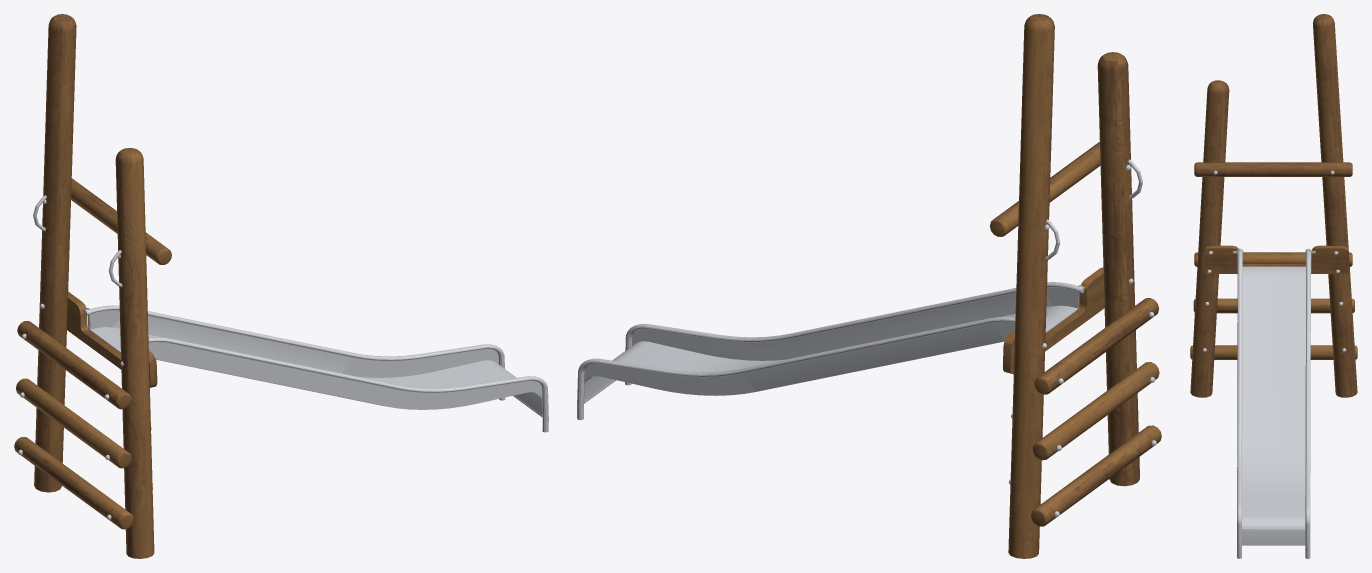
File: gorkakid.glb
The picture shows the model from 3 angles, left to right: view 1: azimuth 30°, elevation 25°; view 2: azimuth 150°, elevation 25°; view 3: azimuth 270°, elevation 25°; orthographic projection. The views are drawn at different scales.
Visible parts, largest first — view 1: каркас, 52, размер, Mesh001; view 2: каркас, 52, размер, Mesh001; view 3: 52, каркас, размер, Mesh001.
Boxes of the visible parts, box(x1,y1,x2,y2) form: каркас: box(34, 14, 154, 558); 52: box(83, 305, 548, 432); размер: box(14, 178, 171, 529); Mesh001: box(67, 292, 157, 387); каркас: box(1008, 14, 1139, 558); 52: box(577, 282, 1084, 420); размер: box(990, 141, 1161, 526); Mesh001: box(1003, 267, 1104, 374); 52: box(1232, 248, 1315, 558); каркас: box(1190, 14, 1357, 397); размер: box(1190, 162, 1357, 359); Mesh001: box(1201, 245, 1349, 273).
Size of the model in its own units: 2.87 by 2.84 by 1.14.
2 materials, 1 textured.
